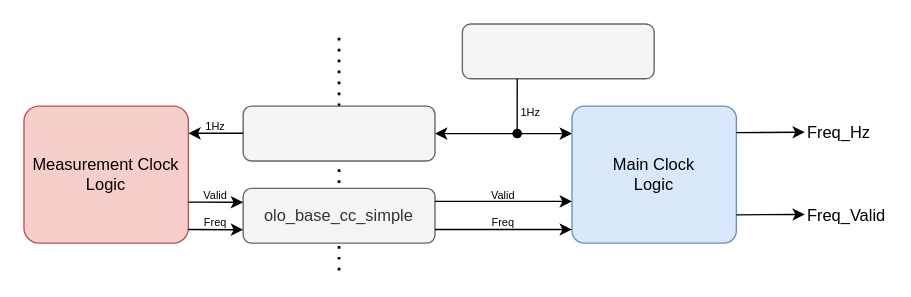
The diagram is 911 pixels wide and 297 high, and some of its shapes have lost their labels. The shapes that lost their labels are listed below. From the top down, each one's box as (x1, y1, x2, y2) in pixels, then its label:
(461, 23, 654, 79): olo_base_strobe_gen
(242, 105, 435, 161): olo_base_cc_pulse
